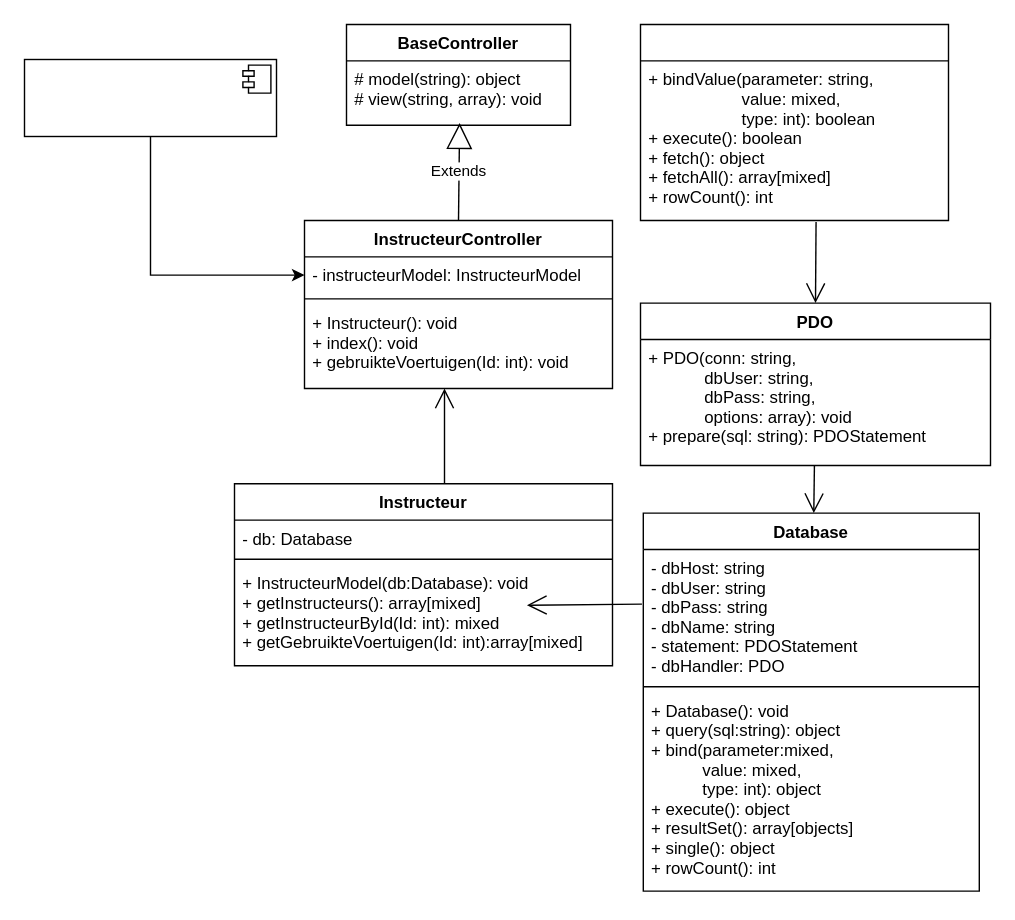
Some shapes in this 1015 by 920 pixel diagram are drawn without their labels. The shapes that lost their labels are listed below. From the top down, each one's box as (x1, y1, x2, y2) in pixels, then its label:
(23, 58, 276, 136): View + data: array[mixed]
(639, 23, 948, 220): PDOStatement
